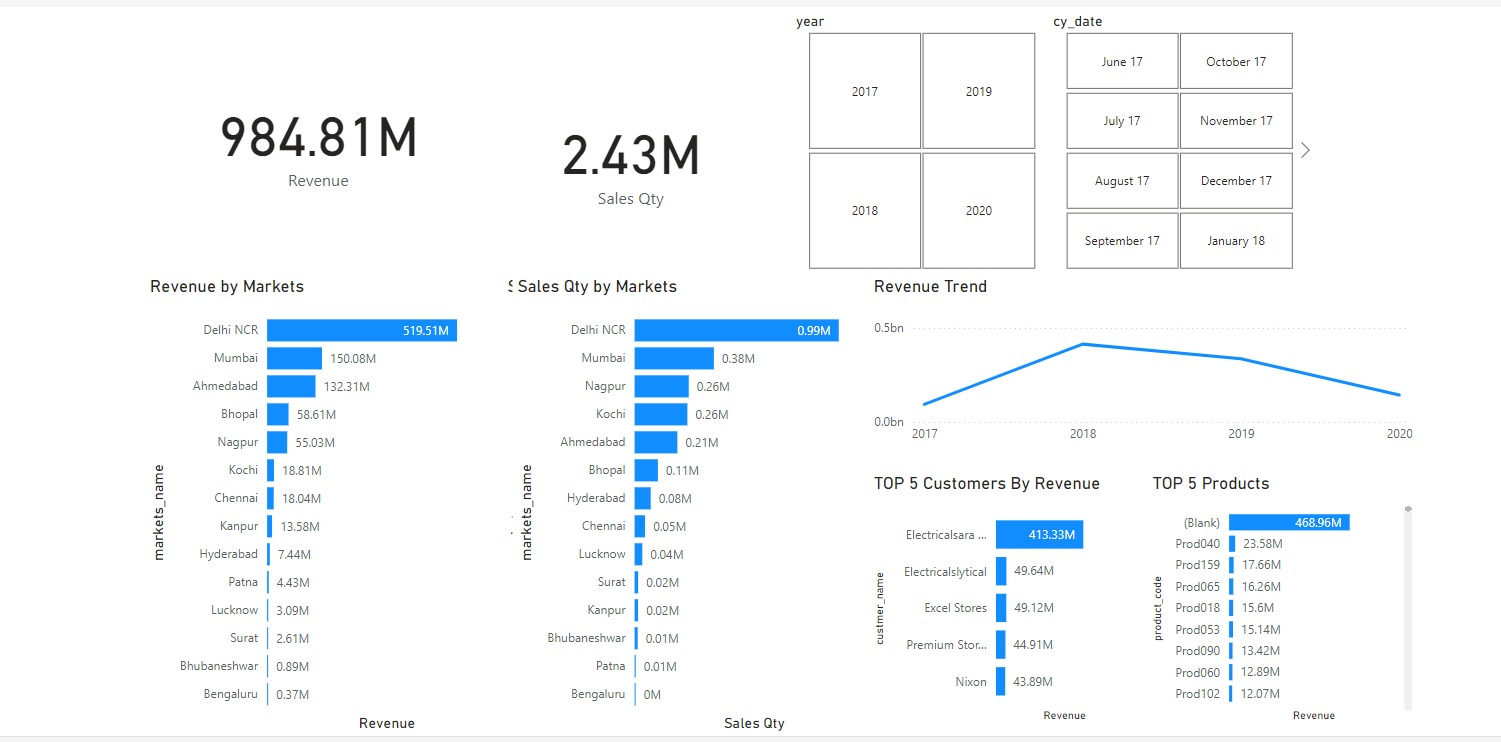

The page's visual inventory and layout, read from the dashboard file:
{"tool":"powerbi","page":{"name":"Page 1","canvas":[1280,720],"ordinal":0},"visuals":[{"type":"card","fields":{"Values":["BaseMeasures.Revenue"]},"box":[0,0,362.6,265.1],"z":0},{"type":"card","fields":{"Values":["BaseMeasures.Sales Qty"]},"box":[339.2,0,300.8,300.8],"z":1000},{"type":"barChart","title":"Revenue by Markets","fields":{"Y":["BaseMeasures.Revenue"],"Category":["sales markets.markets_name"]},"box":[9.6,265.1,362.6,454.6],"z":2000},{"type":"barChart","title":"Sales Qty by Markets","fields":{"Y":["BaseMeasures.Sales Qty"],"Category":["sales markets.markets_name"]},"box":[362.6,265.1,362.6,454.6],"z":3000},{"type":"slicer","fields":{"Values":["sales date.year"]},"box":[640,0,273.3,265.1],"z":4000},{"type":"slicer","fields":{"Values":["sales date.cy_date"]},"box":[894.1,0,273.3,265.1],"z":5000},{"type":"barChart","title":"Sales Qty by Markets","fields":{"Y":["BaseMeasures.Sales Qty"],"Category":["sales markets.markets_name"]},"box":[372.6,265.4,362.6,454.6],"z":6000},{"type":"barChart","title":"TOP 5 Customers By Revenue","fields":{"Y":["BaseMeasures.Revenue"],"Category":["sales customers.custmer_name"]},"box":[724.4,461.1,266.7,250],"z":7000},{"type":"barChart","title":"TOP 5 Products","fields":{"Y":["BaseMeasures.Revenue"],"Category":["sales products.product_code"]},"box":[1000,461.1,266.7,250],"z":8000},{"type":"lineChart","title":"Revenue Trend","fields":{"Y":["BaseMeasures.Revenue"],"Category":["sales date.cy_date.Variation.Date Hierarchy.Year","sales date.cy_date.Variation.Date Hierarchy.Quarter","sales date.cy_date.Variation.Date Hierarchy.Month","sales date.cy_date.Variation.Date Hierarchy.Day"]},"box":[724.4,265.6,542.2,174.4],"z":9000}]}

Visuals, with their boxes on the page's 1280x720 design canvas (x1, y1, x2, y2). These are canvas units, not pixel positions in the 1501x742 screenshot, which may show the page scaled, cropped or inside an application window:
card - BaseMeasures.Revenue: bbox=(0, 0, 363, 265)
card - BaseMeasures.Sales Qty: bbox=(339, 0, 640, 301)
"Revenue by Markets" barChart: bbox=(10, 265, 372, 720)
"Sales Qty by Markets" barChart: bbox=(363, 265, 725, 720)
slicer - sales date.year: bbox=(640, 0, 913, 265)
slicer - sales date.cy_date: bbox=(894, 0, 1167, 265)
"Sales Qty by Markets" barChart: bbox=(373, 265, 735, 720)
"TOP 5 Customers By Revenue" barChart: bbox=(724, 461, 991, 711)
"TOP 5 Products" barChart: bbox=(1000, 461, 1267, 711)
"Revenue Trend" lineChart: bbox=(724, 266, 1267, 440)
